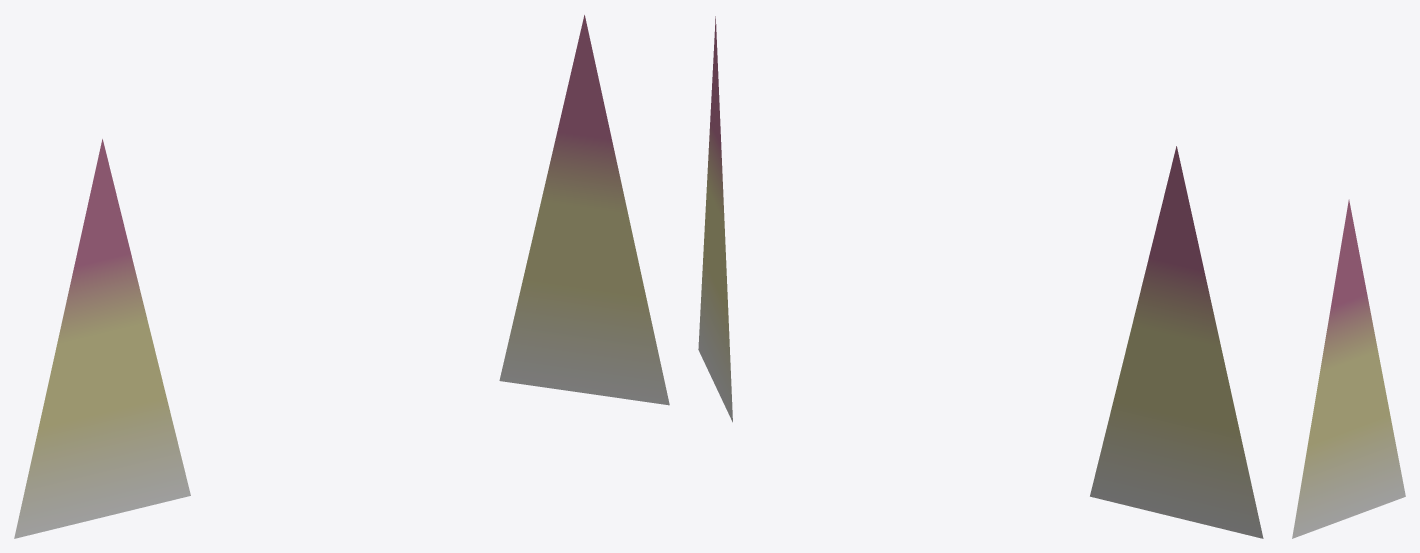
The model's file is spotlightBlur.glb.
3 renders of one model, left to right at view 1: azimuth 30°, elevation 25°; view 2: azimuth 150°, elevation 25°; view 3: azimuth 270°, elevation 25°, orthographic. The views are drawn at different scales.
Parts seen in each view (by area): view 1: spotlightBlur; view 2: spotlightBlur; view 3: spotlightBlur.
Part boxes in pixels (x1,y1,x2,y2): spotlightBlur: (14, 15, 669, 538); spotlightBlur: (698, 16, 1263, 538); spotlightBlur: (1292, 199, 1405, 538).
Bounding box in the file's own units: 5.97 × 3.63 × 1.14.
